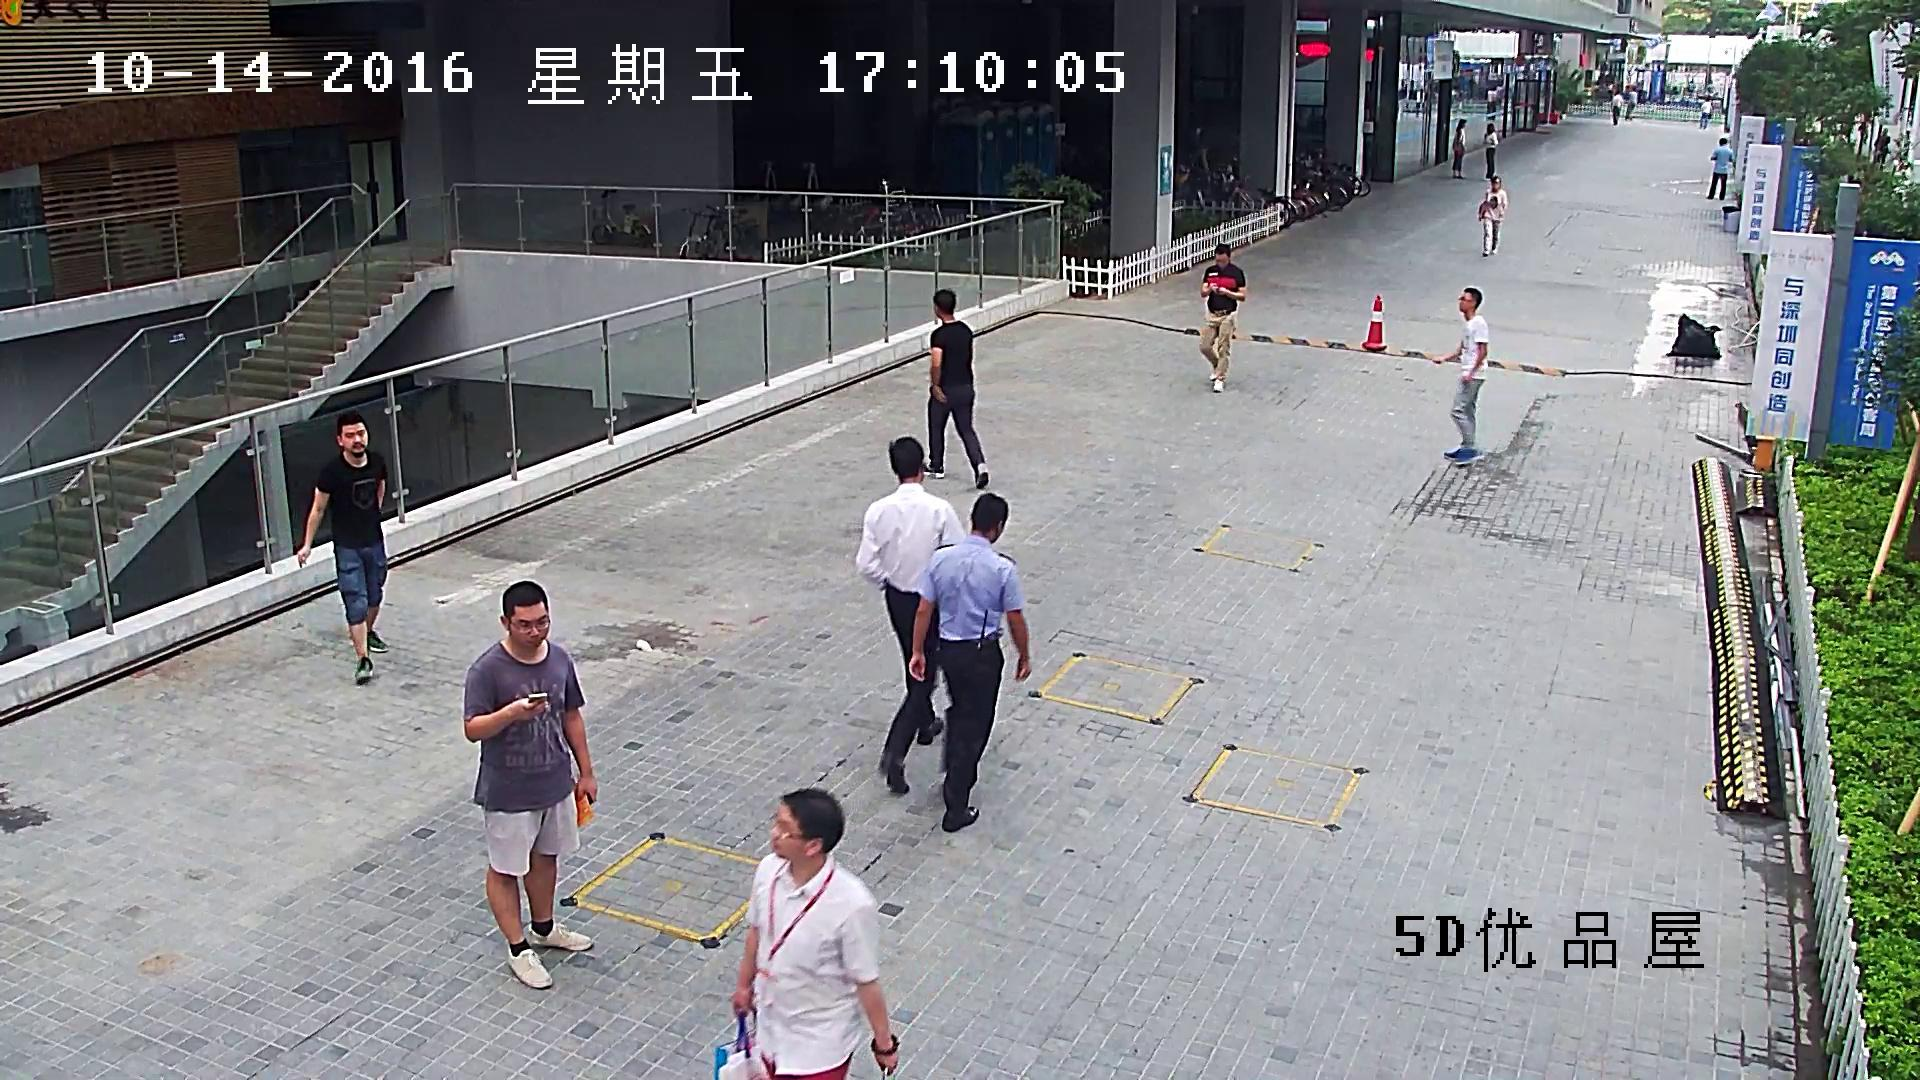person: (463, 581, 596, 989), (714, 787, 897, 1080), (909, 492, 1031, 832), (855, 436, 965, 792), (296, 411, 386, 685), (924, 287, 988, 488), (1434, 285, 1489, 462), (1199, 244, 1246, 393), (1478, 176, 1507, 256), (1705, 137, 1735, 200), (1452, 119, 1466, 179), (1483, 122, 1497, 178), (1875, 128, 1890, 163), (1624, 85, 1637, 122), (1699, 98, 1712, 128), (1612, 92, 1622, 127), (1487, 86, 1497, 120)
